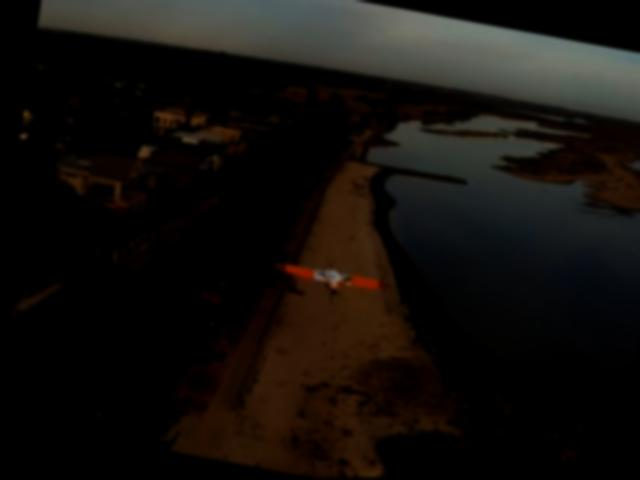uav: (264, 253, 396, 312)
